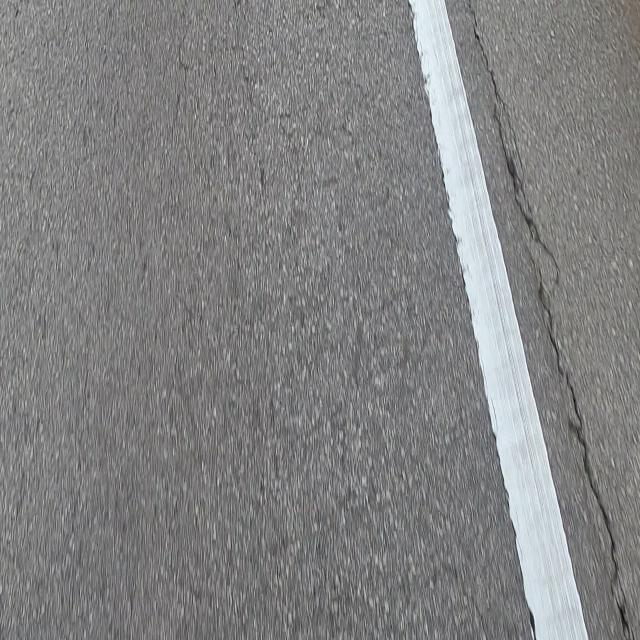Retak-Memanjang: (537, 273, 627, 640), (464, 0, 561, 287)
